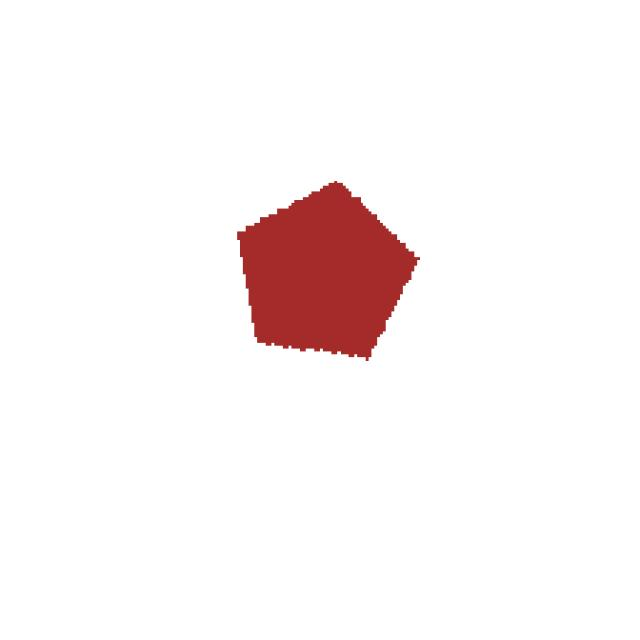Pentagon: (213, 146, 467, 416)
